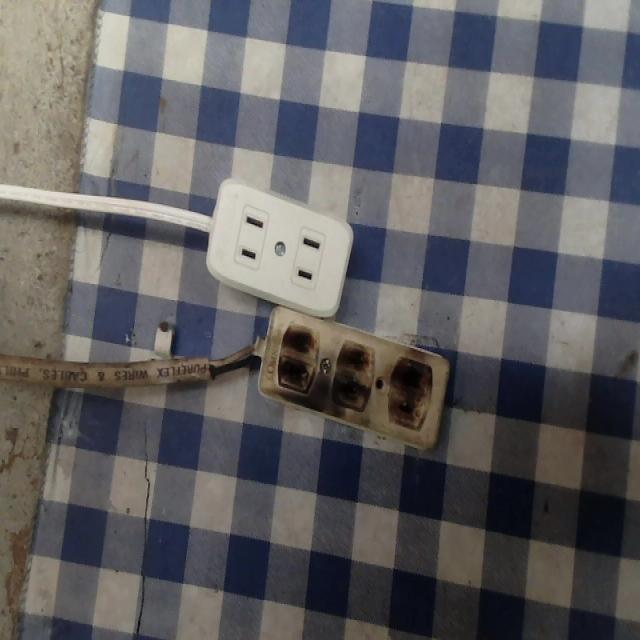-: (330, 330, 375, 418), (385, 353, 432, 435), (277, 316, 319, 396)
